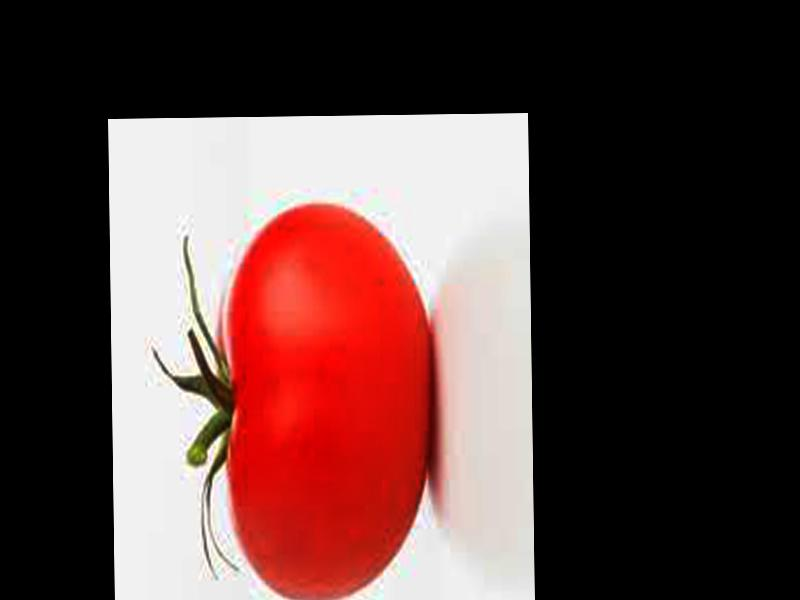Tomato: (223, 202, 434, 600)
